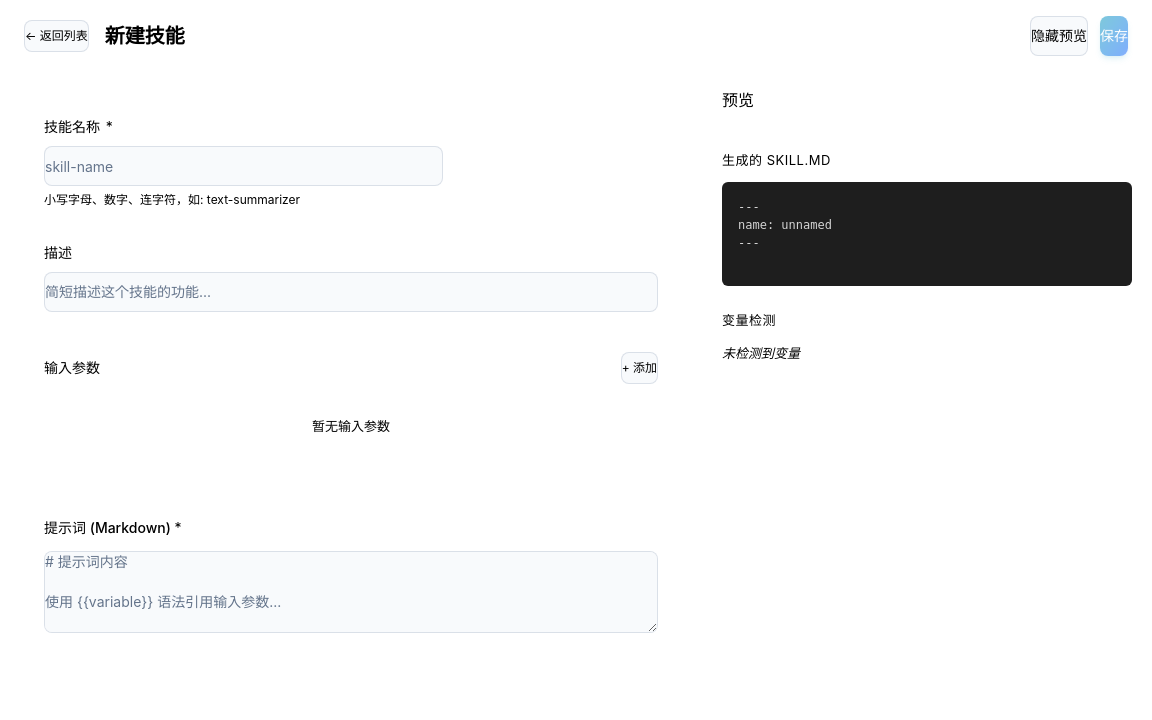
Test: SkillEditor Form Validation › should validate name cannot start with hyphen
Type "-invalid-name" into the field with placeholder "skill-name" at (243, 166), box left=44, top=146, right=443, bottom=186
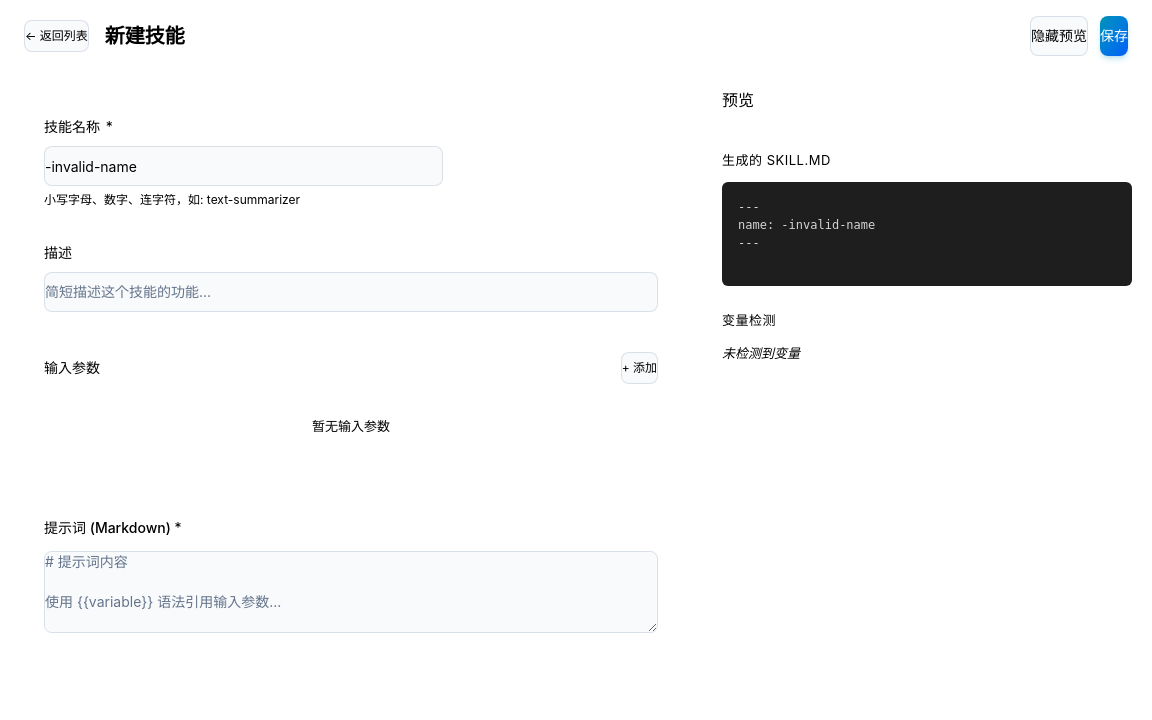
Leave the 1st field, box left=44, top=146, right=443, bottom=186
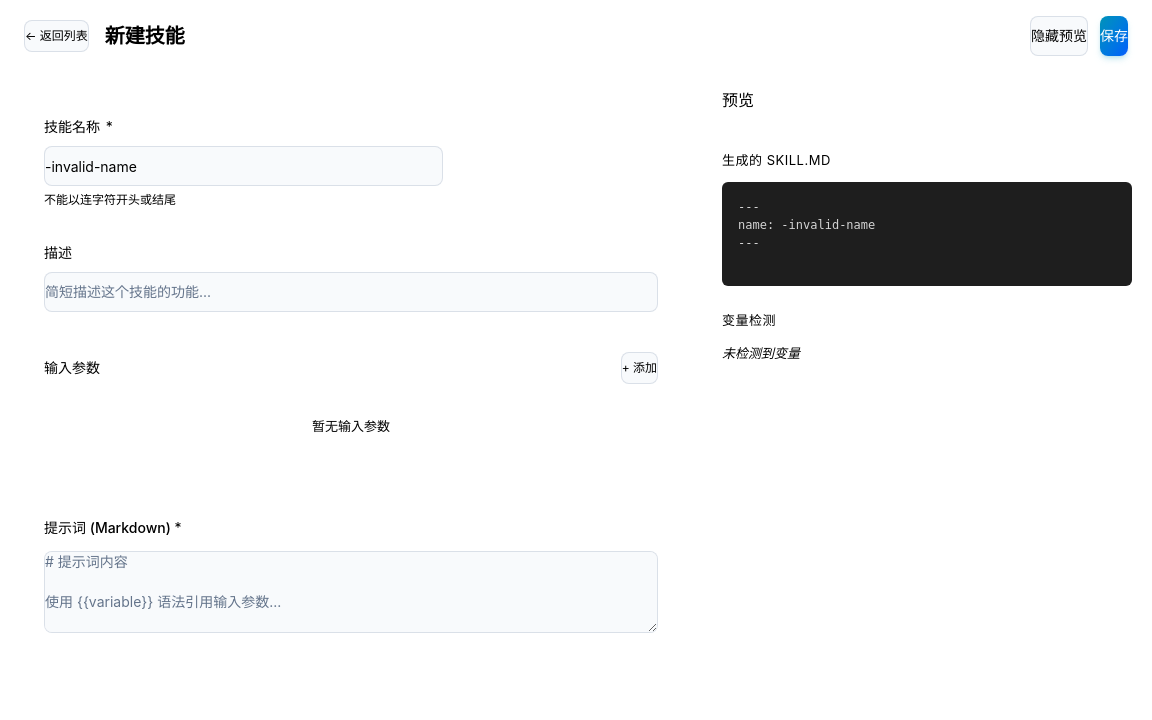
Check: the text "不能以连字符开头或结尾" is shown, box left=44, top=192, right=176, bottom=207
